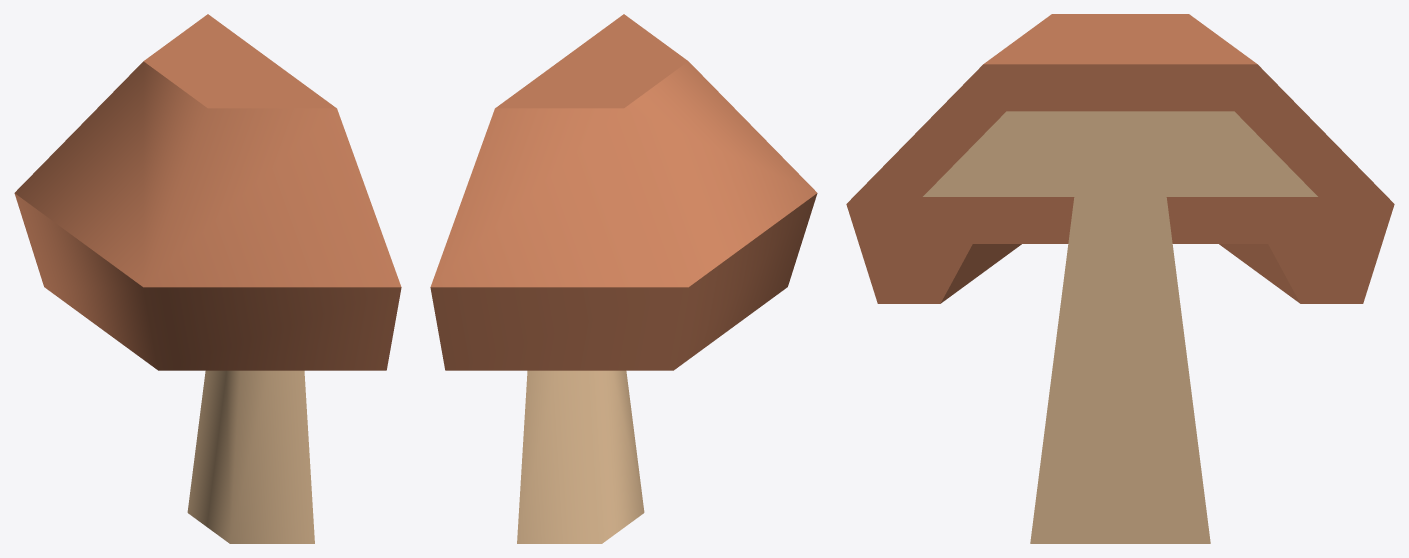
Rendered from Mushroom Half.glb.
3 views of the same model, side by side, from view 1: azimuth 30°, elevation 25°; view 2: azimuth 150°, elevation 25°; view 3: azimuth 270°, elevation 25° (orthographic). The views are drawn at different scales.
Parts seen in each view (by area): view 1: Mushroom Half; view 2: Mushroom Half; view 3: Mushroom Half.
Part boxes in pixels (x1,y1,x2,y2): Mushroom Half: (14, 14, 401, 543); Mushroom Half: (430, 14, 817, 543); Mushroom Half: (846, 14, 1394, 543).
Bounding box in the file's own units: 0.0624 × 0.1392 × 0.1442.
